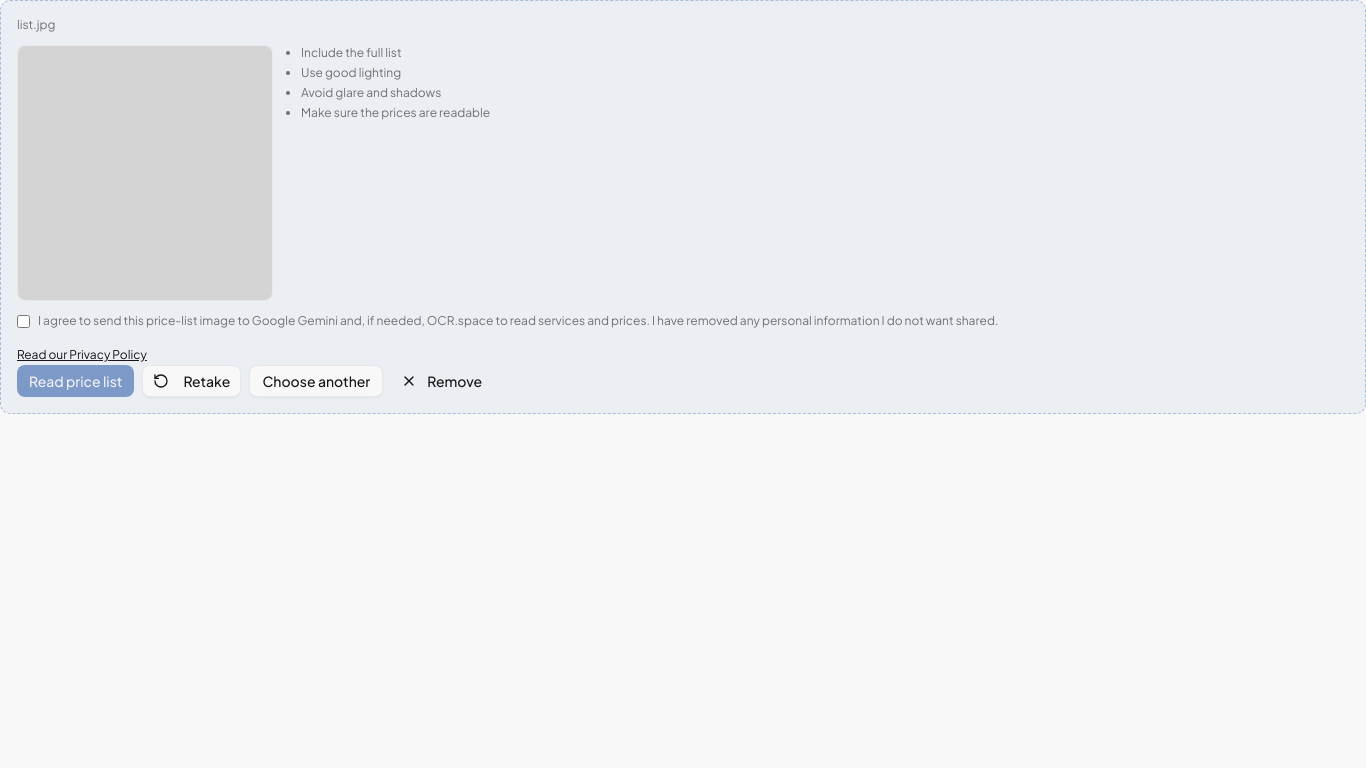
it: PriceListScanPanel › shows review states in plain words and no provider, model or confidence jargon
Earlier steps of the test are not shown.
Later steps or results of the test are not shown.
Click the checkbox labelled "agree to send this price-list image". click: (24, 322)
box: [17,315,30,328]
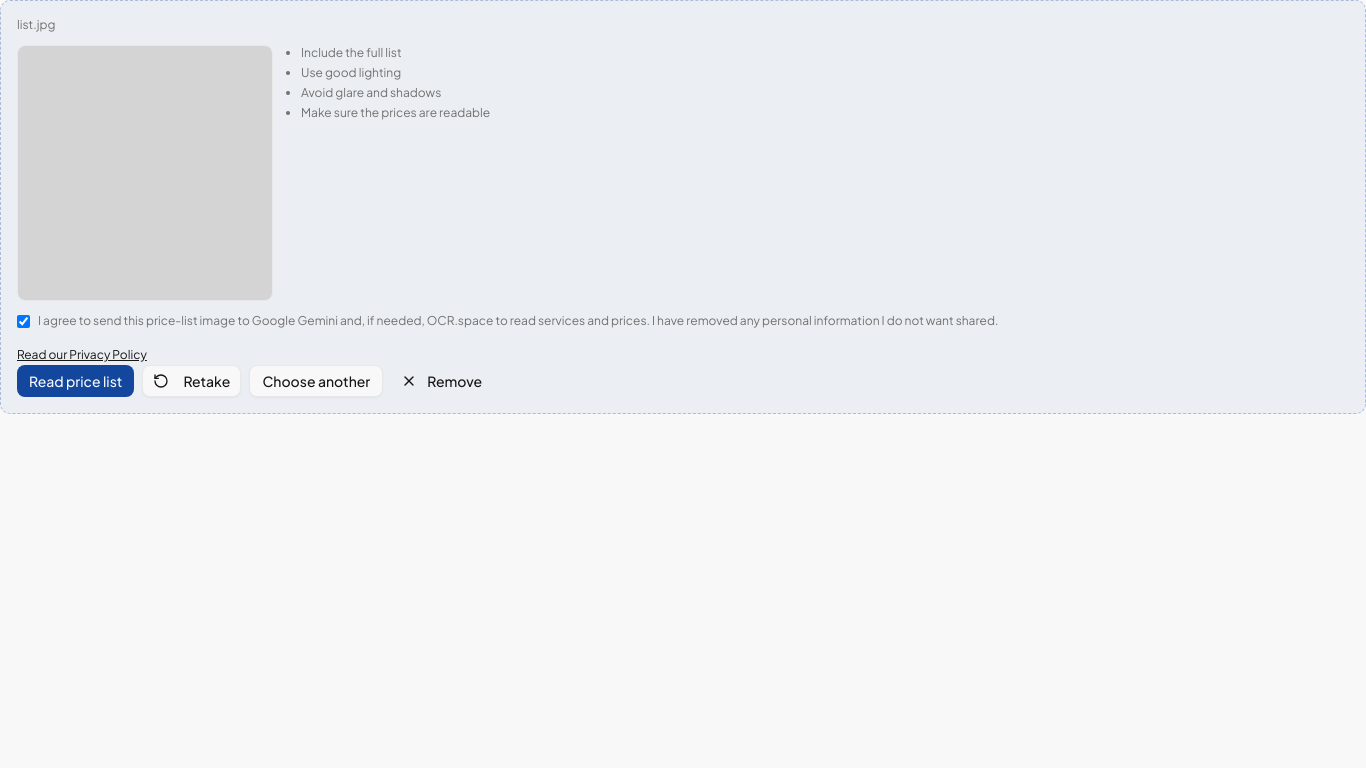
Click the button "Read price list". click: (76, 381)
box: [17,365,134,397]
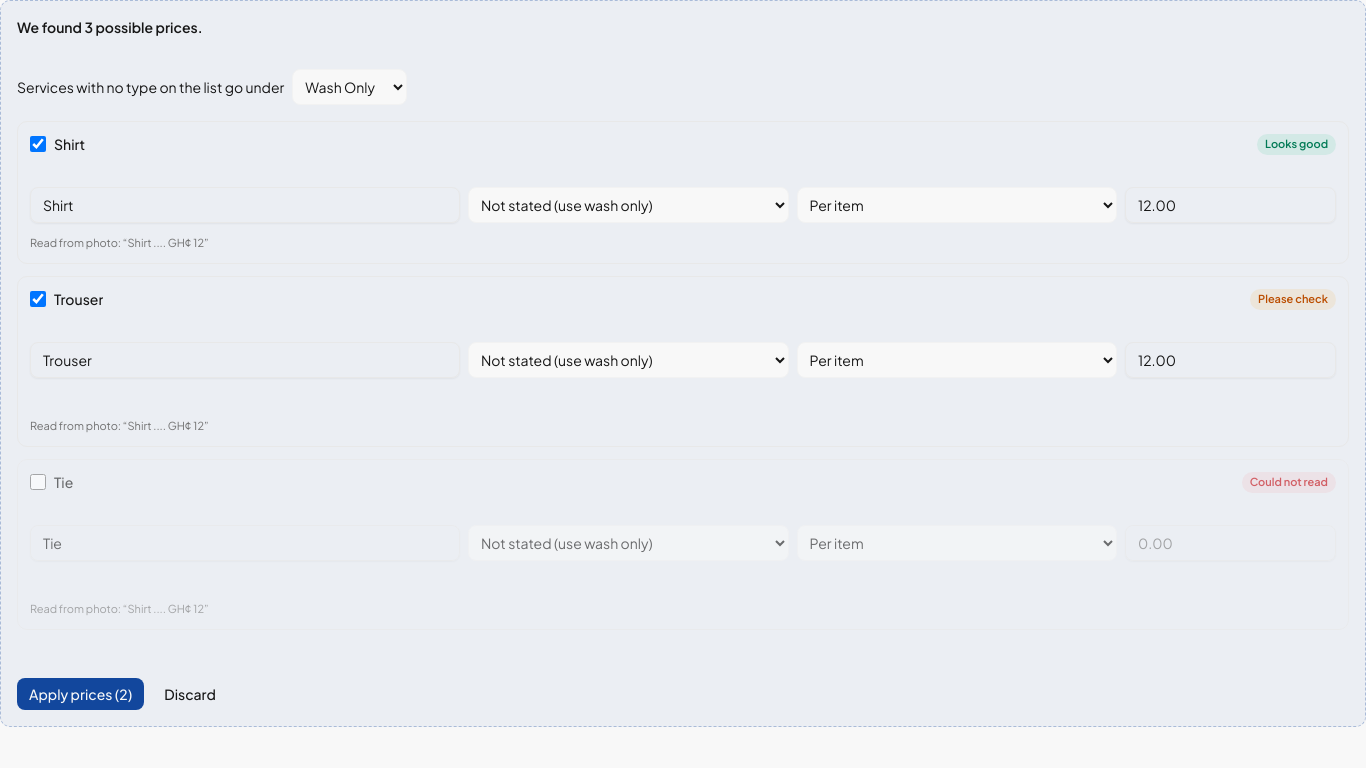
Check: the text "We found 3 possible prices." is shown, box [17,18,202,36]
Check: the text "Looks good" is shown, box [1257,134,1336,154]
Check: the text "Please check" is shown, box [1250,289,1336,310]
